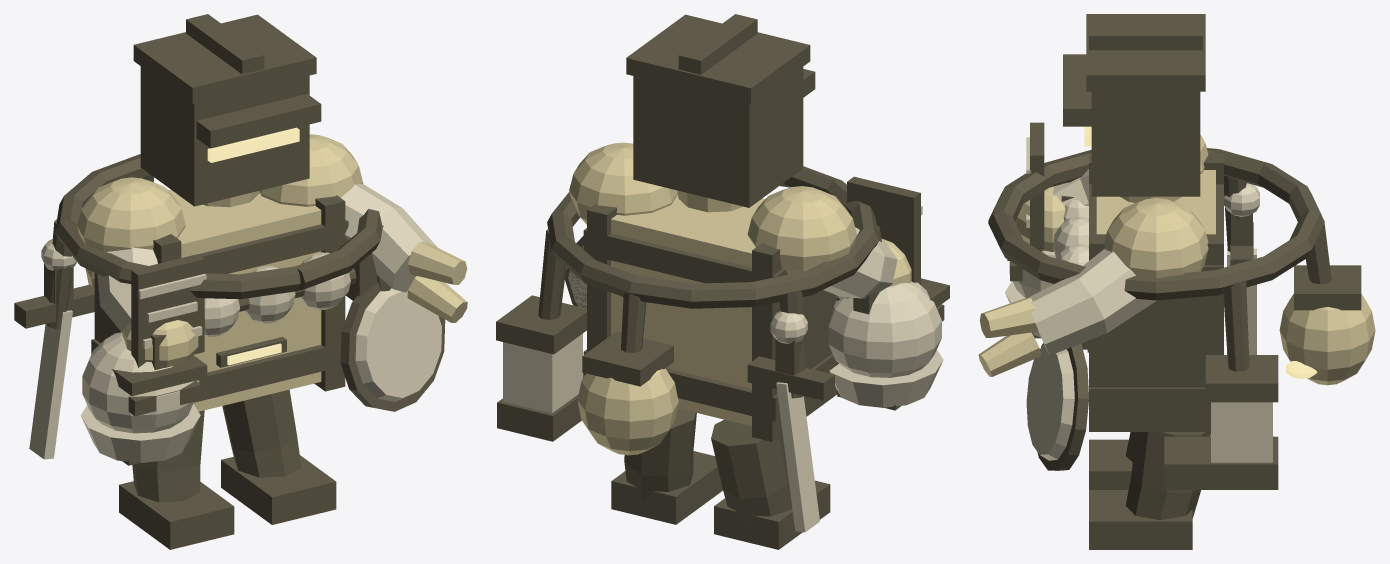
Rendered from tallyman_chibi.glb.
3 renders of one model, left to right at view 1: azimuth 30°, elevation 25°; view 2: azimuth 150°, elevation 25°; view 3: azimuth 270°, elevation 25°, orthographic.
Visible parts, largest first — view 1: tallyman_chibi_dark, tallyman_chibi_bone, tallyman_chibi_body, tallyman_chibi_glow; view 2: tallyman_chibi_dark, tallyman_chibi_body, tallyman_chibi_bone; view 3: tallyman_chibi_dark, tallyman_chibi_bone, tallyman_chibi_body, tallyman_chibi_glow.
Boxes of the visible parts, <box> form: tallyman_chibi_dark: <box>14,14,445,549</box>; tallyman_chibi_bone: <box>29,183,441,462</box>; tallyman_chibi_body: <box>77,134,467,411</box>; tallyman_chibi_glow: <box>207,127,299,365</box>; tallyman_chibi_dark: <box>496,14,949,549</box>; tallyman_chibi_body: <box>569,142,911,455</box>; tallyman_chibi_bone: <box>503,206,943,532</box>; tallyman_chibi_dark: <box>988,14,1361,549</box>; tallyman_chibi_bone: <box>1005,137,1272,462</box>; tallyman_chibi_body: <box>978,135,1375,385</box>; tallyman_chibi_glow: <box>1084,126,1317,378</box>.
Bounding box in the file's own units: 1.72 × 2.15 × 1.62.
